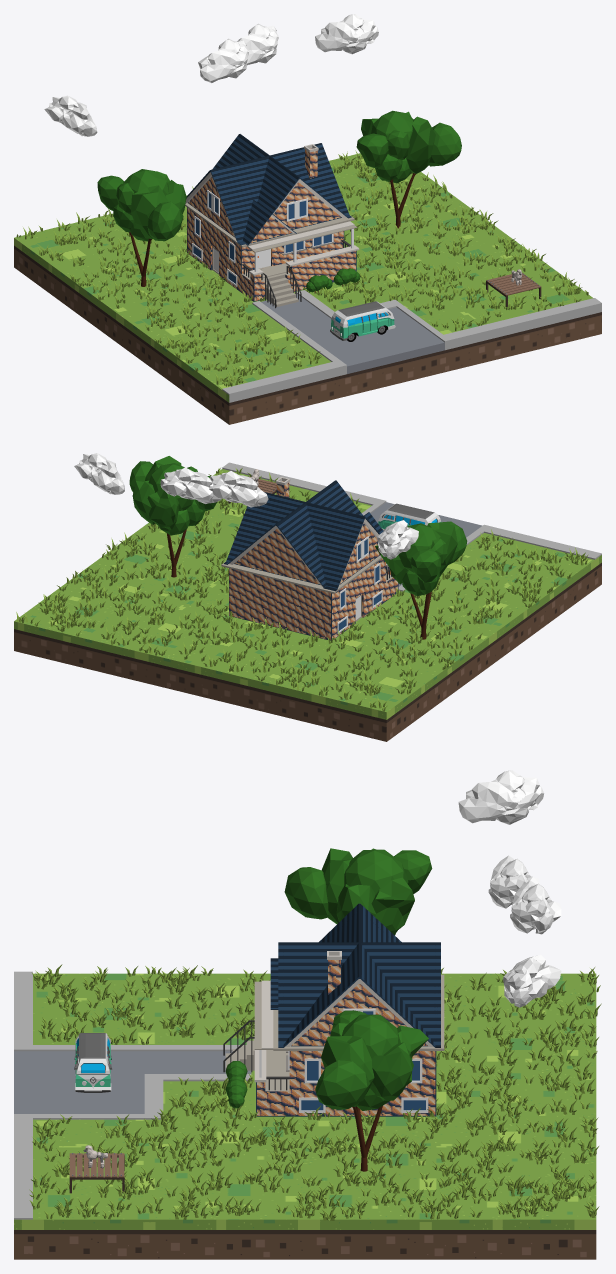
The picture shows the model from 3 angles, top to bottom: view 1: azimuth 30°, elevation 25°; view 2: azimuth 150°, elevation 25°; view 3: azimuth 270°, elevation 25°; orthographic projection. The views are drawn at different scales.
Visible parts, largest first — view 1: Cube.006, Cube.430, Circle.012_Grass_0.192, Cube.007, tree, tree.001, VEHICLES_VAN, Cube.009; view 2: Cube.006, Cube.430, Circle.012_Grass_0.192, Cube.007, tree.001, tree, VEHICLES_VAN; view 3: Cube.006, Circle.012_Grass_0.192, Cube.430, tree, Cube.007, tree.001, VEHICLES_VAN, Cube.009.
Boxes of the visible parts, x1=… form: Cube.006: x1=14, y1=153, x2=601, y2=424; Cube.430: x1=185, y1=134, x2=359, y2=308; Circle.012_Grass_0.192: x1=16, y1=150, x2=588, y2=386; Cube.007: x1=44, y1=14, x2=378, y2=136; tree: x1=356, y1=110, x2=461, y2=228; tree.001: x1=97, y1=169, x2=186, y2=286; VEHICLES_VAN: x1=330, y1=301, x2=395, y2=341; Cube.009: x1=486, y1=272, x2=541, y2=306; Cube.006: x1=14, y1=462, x2=601, y2=741; Cube.430: x1=221, y1=477, x2=398, y2=640; Circle.012_Grass_0.192: x1=16, y1=468, x2=588, y2=711; Cube.007: x1=74, y1=453, x2=418, y2=559; tree.001: x1=375, y1=521, x2=467, y2=639; tree: x1=129, y1=456, x2=216, y2=577; VEHICLES_VAN: x1=378, y1=503, x2=441, y2=530; Cube.006: x1=14, y1=971, x2=596, y2=1259; Circle.012_Grass_0.192: x1=29, y1=964, x2=601, y2=1220; Cube.430: x1=223, y1=903, x2=444, y2=1116; tree: x1=315, y1=1010, x2=428, y2=1171; Cube.007: x1=458, y1=770, x2=561, y2=1007; tree.001: x1=284, y1=848, x2=432, y2=935; VEHICLES_VAN: x1=74, y1=1033, x2=112, y2=1092; Cube.009: x1=69, y1=1153, x2=124, y2=1193.
Bounding box in the file's own units: 4071 × 2277 × 4040.
Materials: 32 (4 with a texture image).
